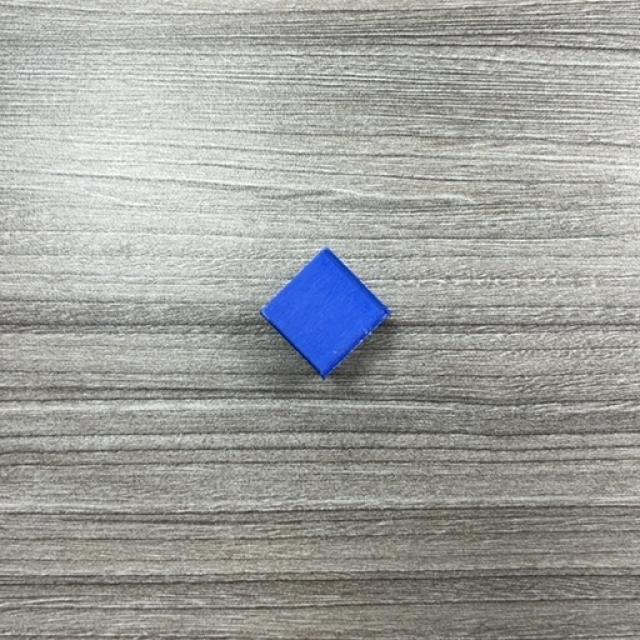Azul: (260, 249, 391, 380)
